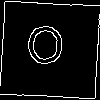O: (24, 24, 66, 75)
